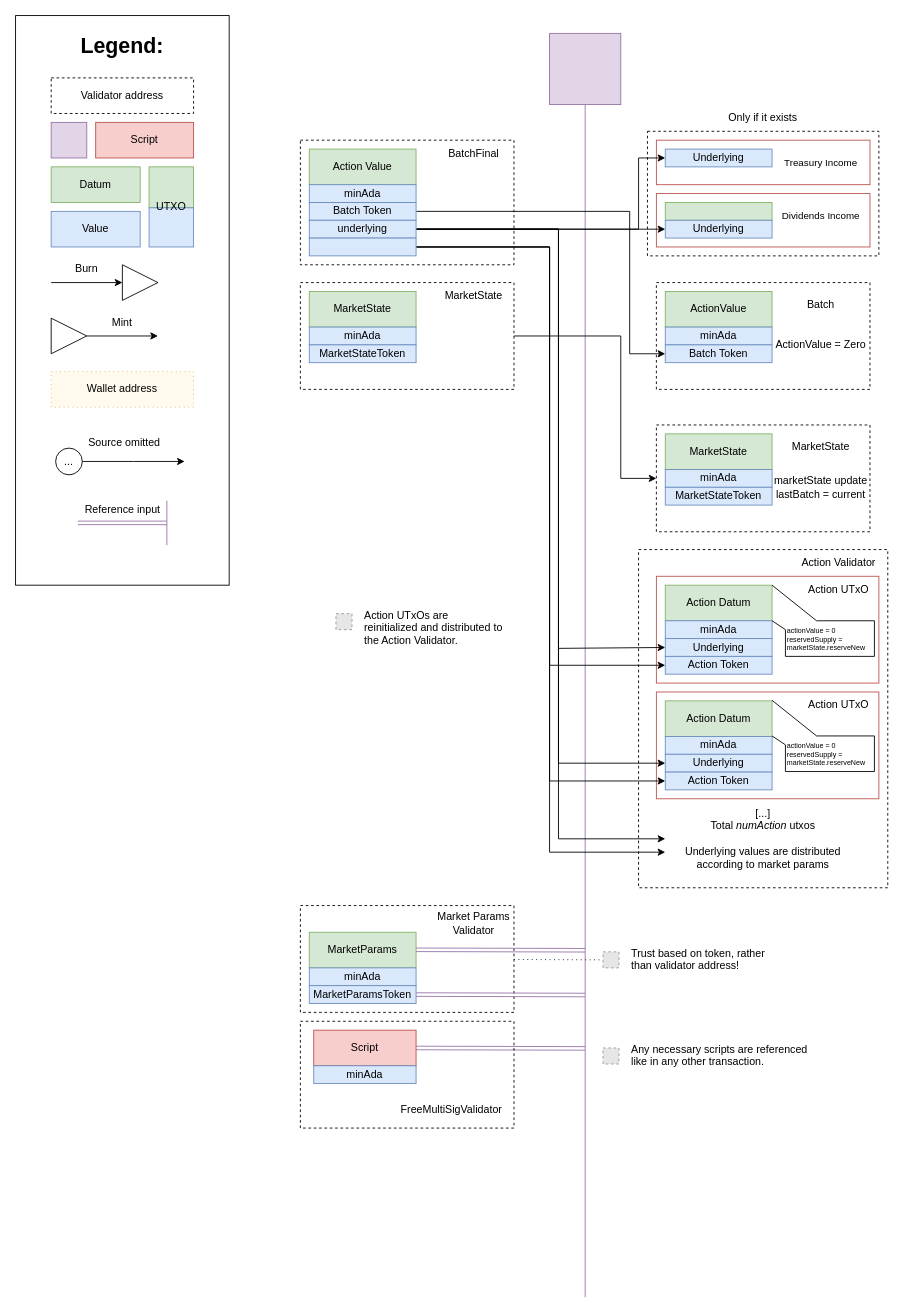
Some shapes in this 903 by 1314 pixel diagram are drawn without their labels. Grey dashed boxes stand in for pictures. Here are the shapes that lost their labels. From the top down, the centre of each, then its label:
(585,68): Batch Final Transaction
(68,139): Tx
(362,246): numAction ActionTokens
